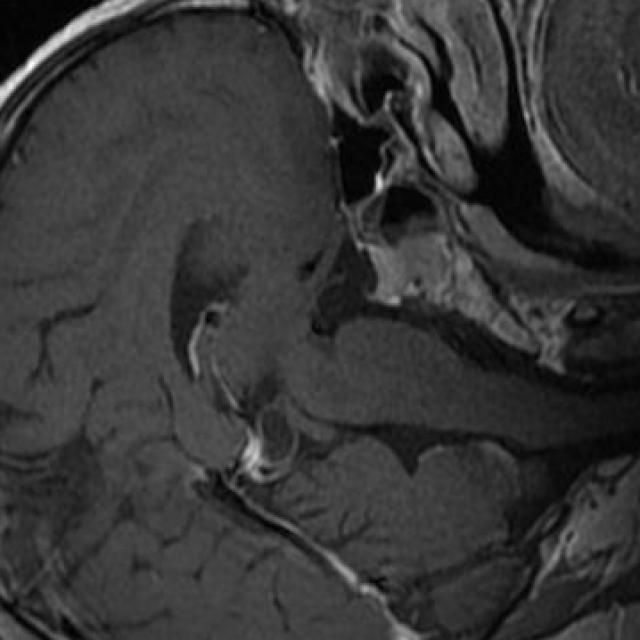pituitary: (367, 235, 456, 307)
